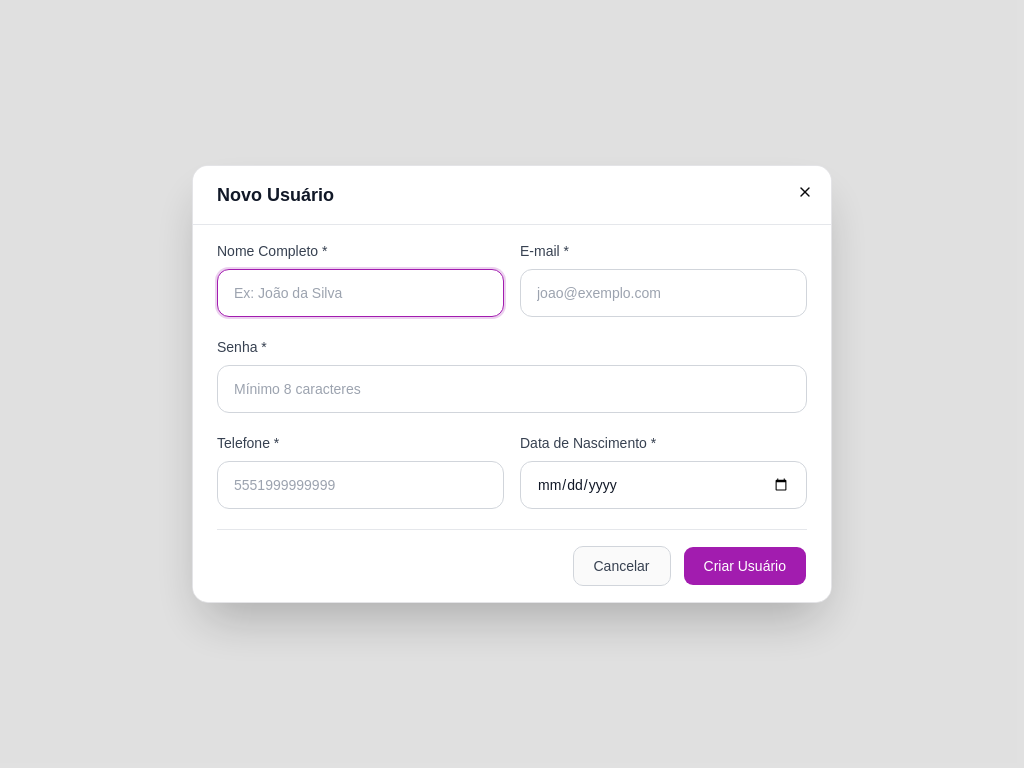
Test case: UserFormSheet › deve exibir erros de validação ao enviar formulário vazio no modo criar
Click the button "Criar Usuário".
click(745, 566)  # box left=682, top=546, right=807, bottom=586
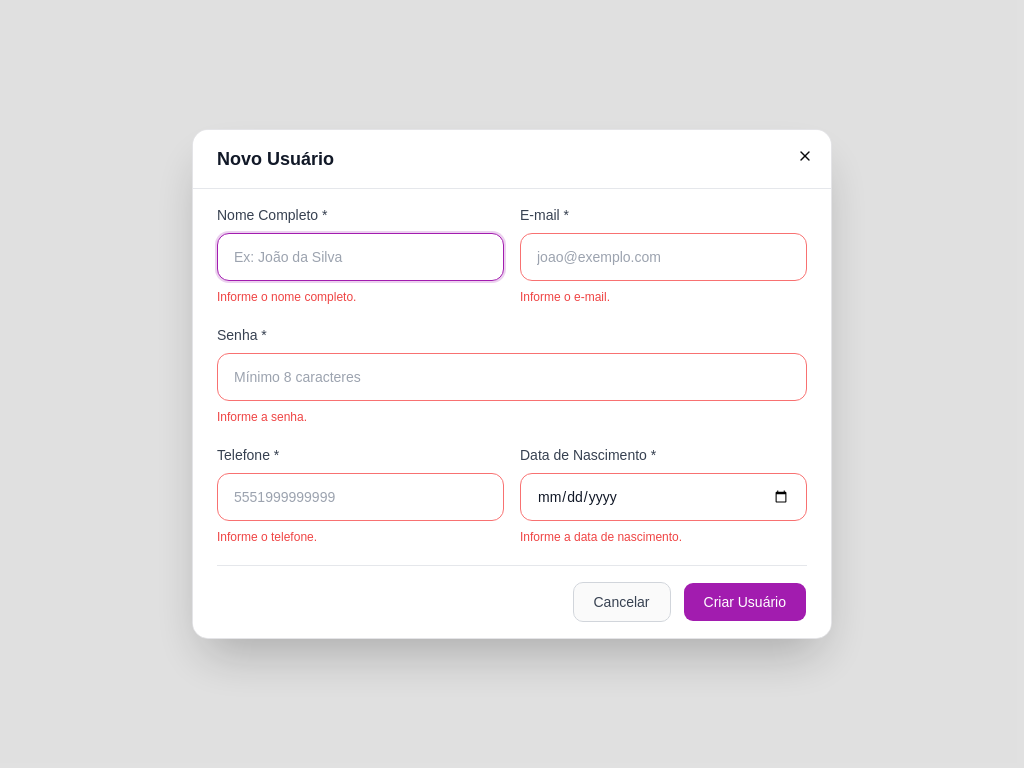
Expected: the text "Informe o nome completo." is shown, left=217, top=290, right=356, bottom=304
Expected: the text "Informe o e-mail." is shown, left=520, top=290, right=610, bottom=304
Expected: the text "Informe a senha." is shown, left=217, top=410, right=307, bottom=424
